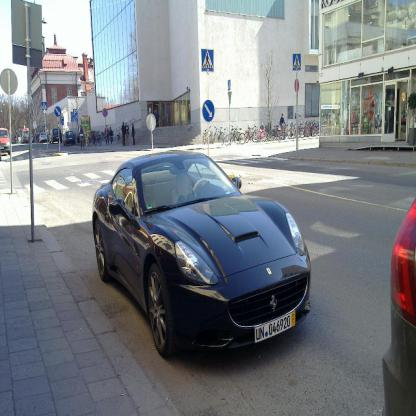Car: (92, 152, 310, 357)
